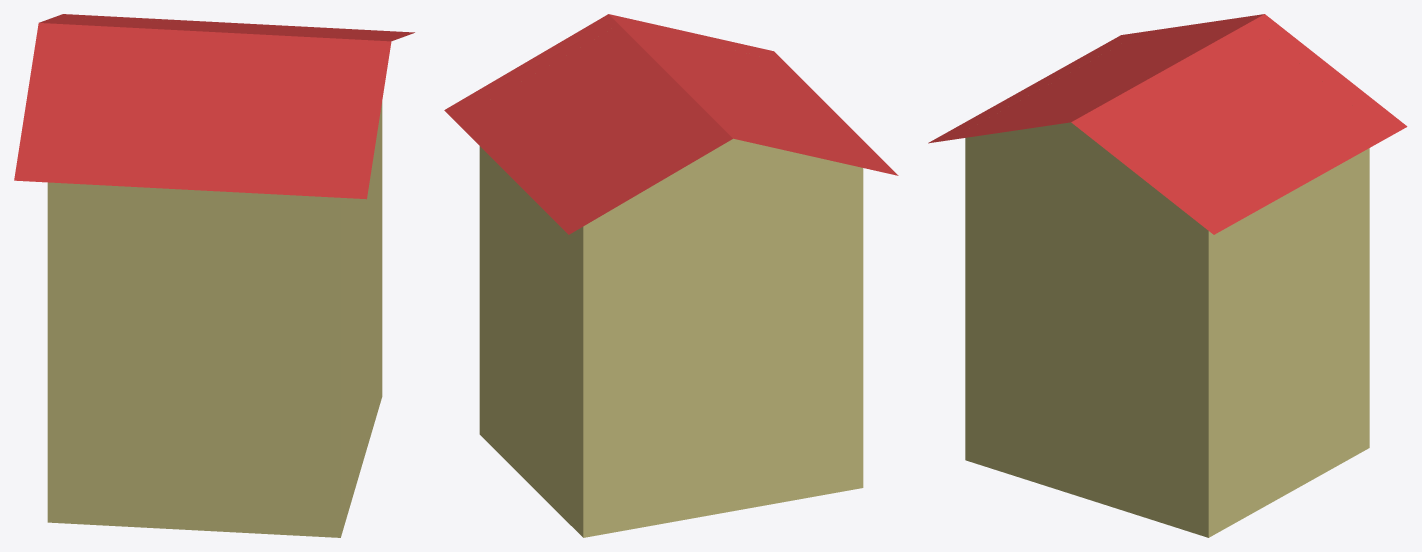
3 views of the same model, side by side, from view 1: azimuth 30°, elevation 25°; view 2: azimuth 150°, elevation 25°; view 3: azimuth 270°, elevation 25° (orthographic). The views are drawn at different scales.
Visible parts, largest first — view 1: group_5, group_3, group_4; view 2: group_5, group_3, group_4; view 3: group_5, group_3, group_4.
Part boxes in pixels (x1,y1,x2,y2): group_5: (47,101,382,537); group_3: (39,17,391,196); group_4: (14,14,414,199); group_5: (479,138,863,537); group_3: (480,14,862,234); group_4: (444,14,898,234); group_5: (965,122,1369,537); group_3: (966,14,1369,233); group_4: (928,14,1407,234).
Size of the model in its own units: 13.04 by 13.24 by 11.74.
